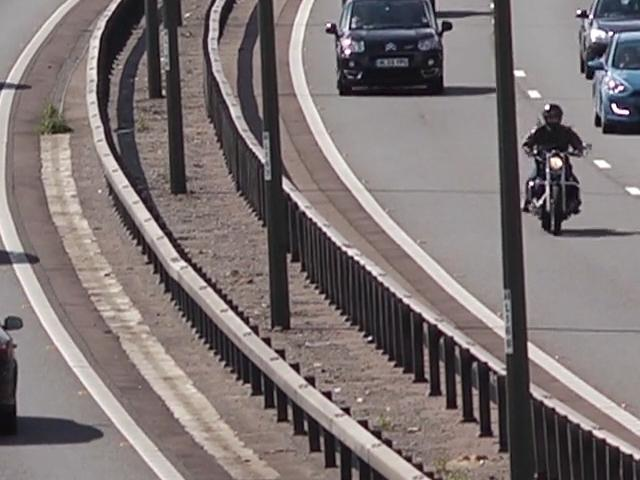car: (331, 0, 461, 98), (593, 25, 640, 138), (575, 0, 640, 60)
motorcycle: (516, 100, 596, 233)
